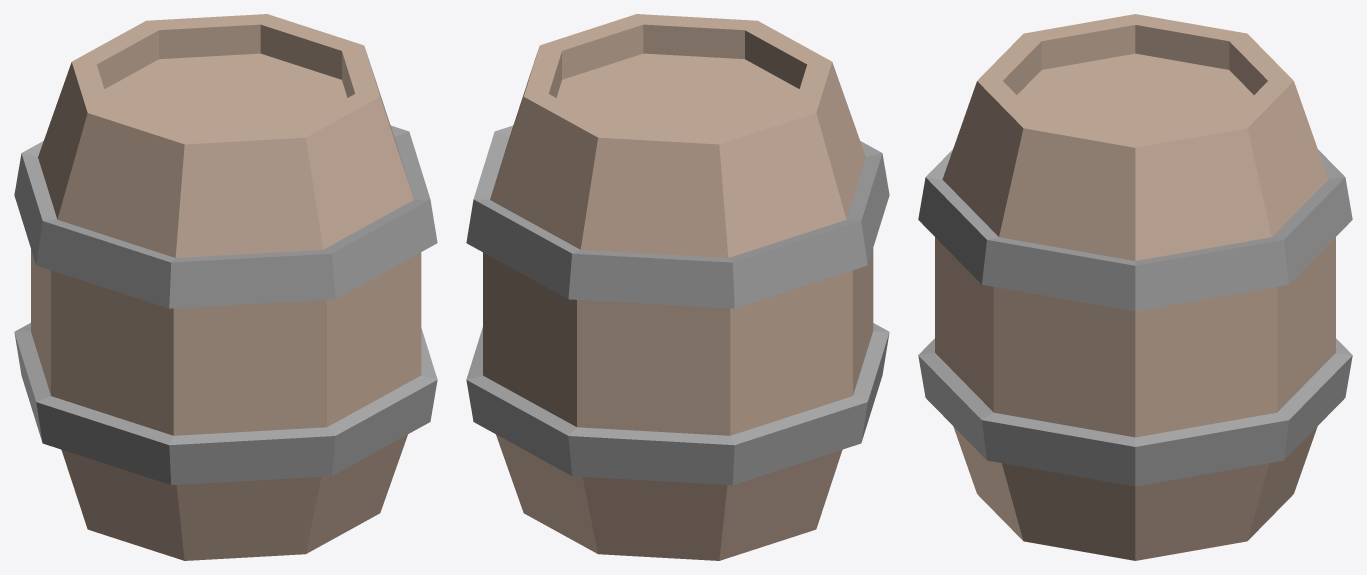
File: barrel.fbx
The picture shows the model from 3 angles, left to right: view 1: azimuth 30°, elevation 25°; view 2: azimuth 150°, elevation 25°; view 3: azimuth 270°, elevation 25°; orthographic projection.
Visible parts, largest first — view 1: barrel6; view 2: barrel6; view 3: barrel6.
Part boxes in pixels (left/top/right/bottom): barrel6: left=14, top=14, right=437, bottom=560; barrel6: left=466, top=14, right=889, bottom=560; barrel6: left=918, top=14, right=1352, bottom=560.
Bounding box in the file's own units: 0.7068 × 0.7414 × 0.7068.
